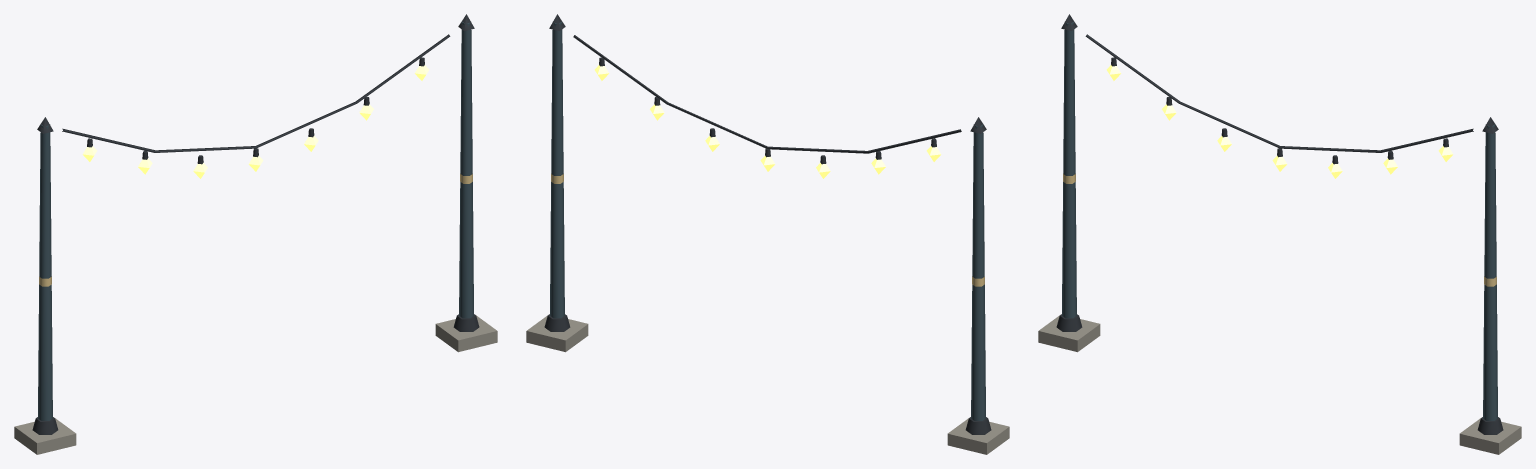
The model's file is festoon-lights.glb.
The picture shows the model from 3 angles, left to right: view 1: azimuth 30°, elevation 25°; view 2: azimuth 150°, elevation 25°; view 3: azimuth 330°, elevation 25°; orthographic projection.
Visible parts, largest first — view 1: Merged_prop-body, Merged_city-metal-dark, Merged_city-curb, Merged_city-lamp-lens; view 2: Merged_prop-body, Merged_city-metal-dark, Merged_city-curb, Merged_city-lamp-lens; view 3: Merged_prop-body, Merged_city-metal-dark, Merged_city-curb, Merged_city-lamp-lens.
Boxes of the visible parts, box(x1,y1,x2,y2) form: Merged_prop-body: box(38, 21, 473, 420); Merged_city-metal-dark: box(32, 14, 479, 434); Merged_city-curb: box(14, 315, 497, 454); Merged_city-lamp-lens: box(82, 65, 429, 178); Merged_prop-body: box(550, 21, 985, 420); Merged_city-metal-dark: box(544, 14, 991, 434); Merged_city-curb: box(526, 315, 1009, 454); Merged_city-lamp-lens: box(594, 65, 941, 178); Merged_prop-body: box(1062, 21, 1497, 420); Merged_city-metal-dark: box(1056, 14, 1503, 434); Merged_city-curb: box(1038, 315, 1521, 454); Merged_city-lamp-lens: box(1106, 65, 1453, 178).
Size of what is drawn, in the model's own units: 4.92 by 3.32 by 0.42.
